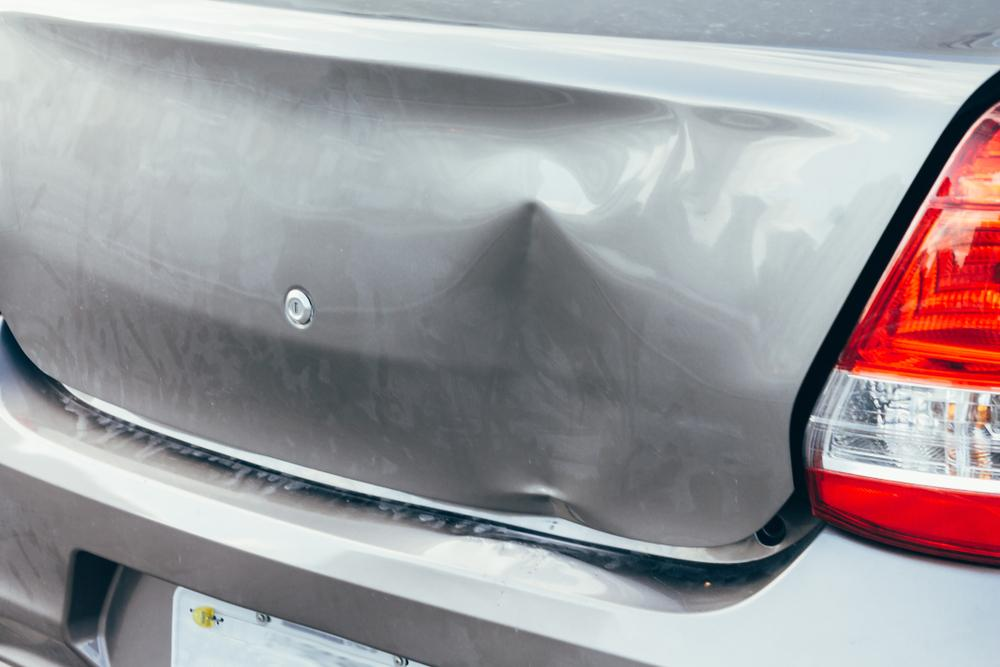dent: (430, 200, 635, 523)
